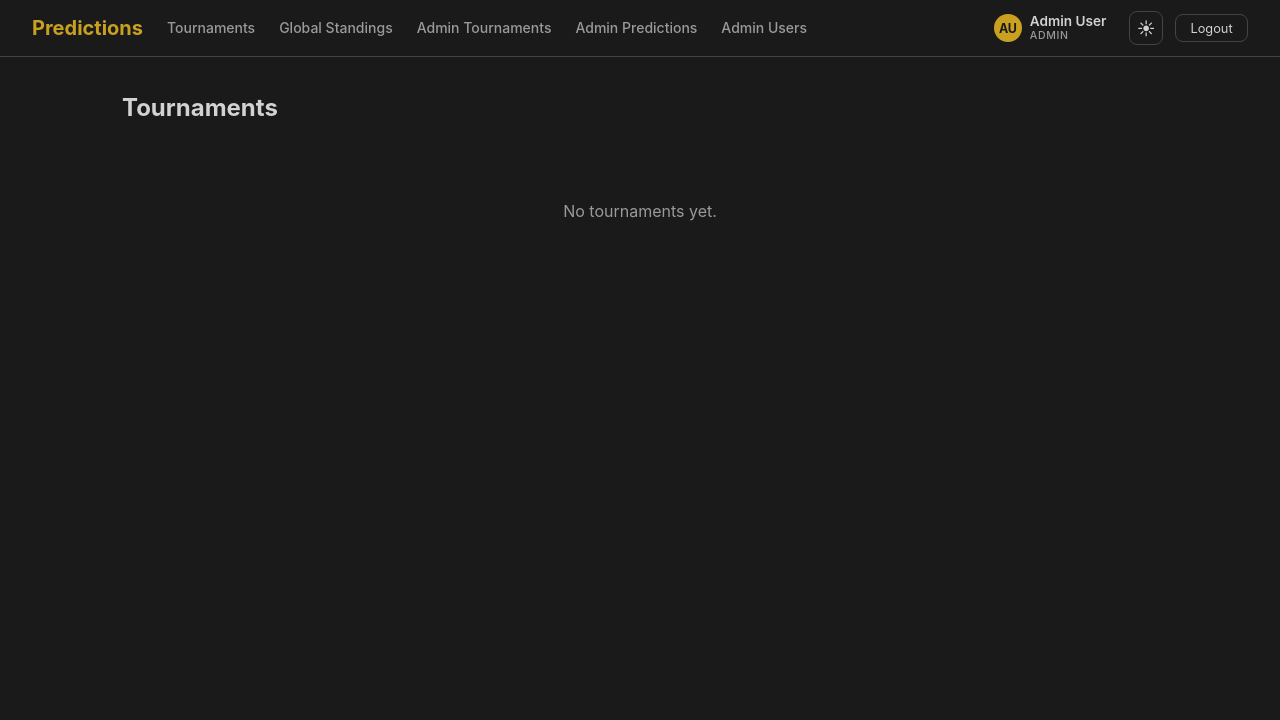
Test: Account drawer › opens from the navbar user button with profile and security sections
Click the button "AU Admin User Admin": {"x": 1052, "y": 28} [987,9,1117,47]
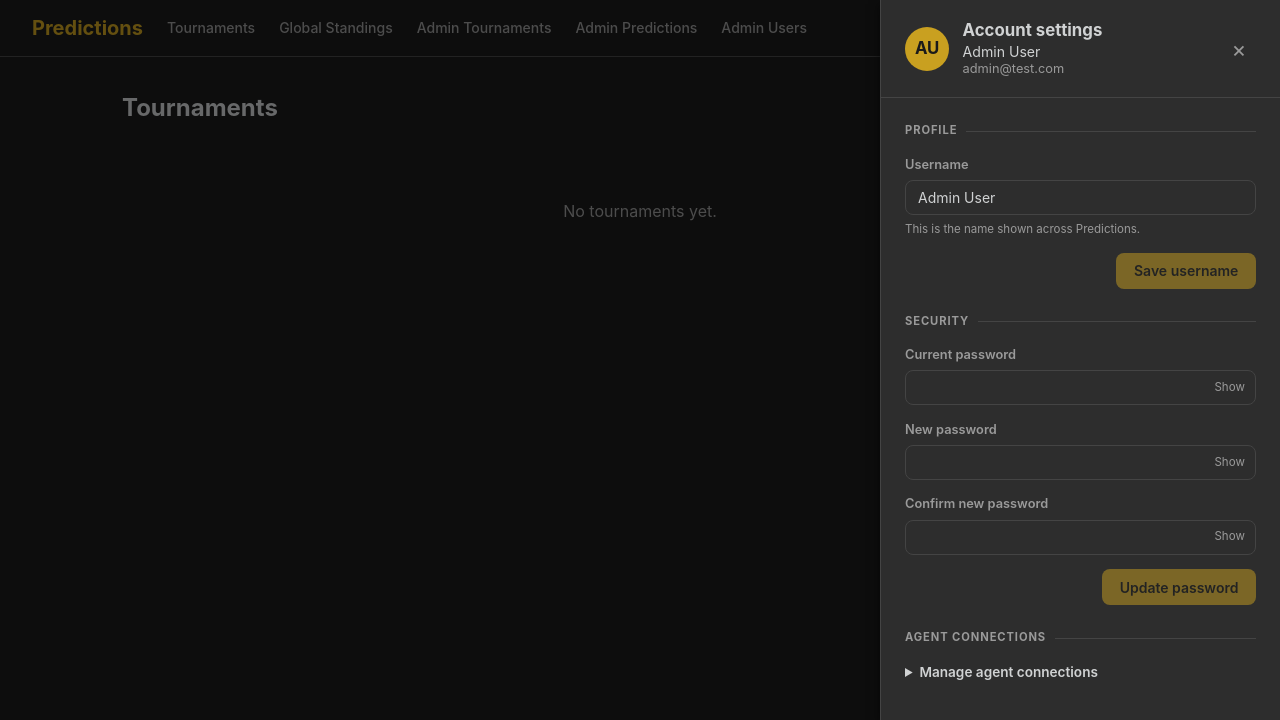
Now the dialog is shown, box [880,0,1279,719]
Now the text "Profile" is shown, box [905,124,957,138]
Now the text "Security" is shown, box [905,314,969,328]
